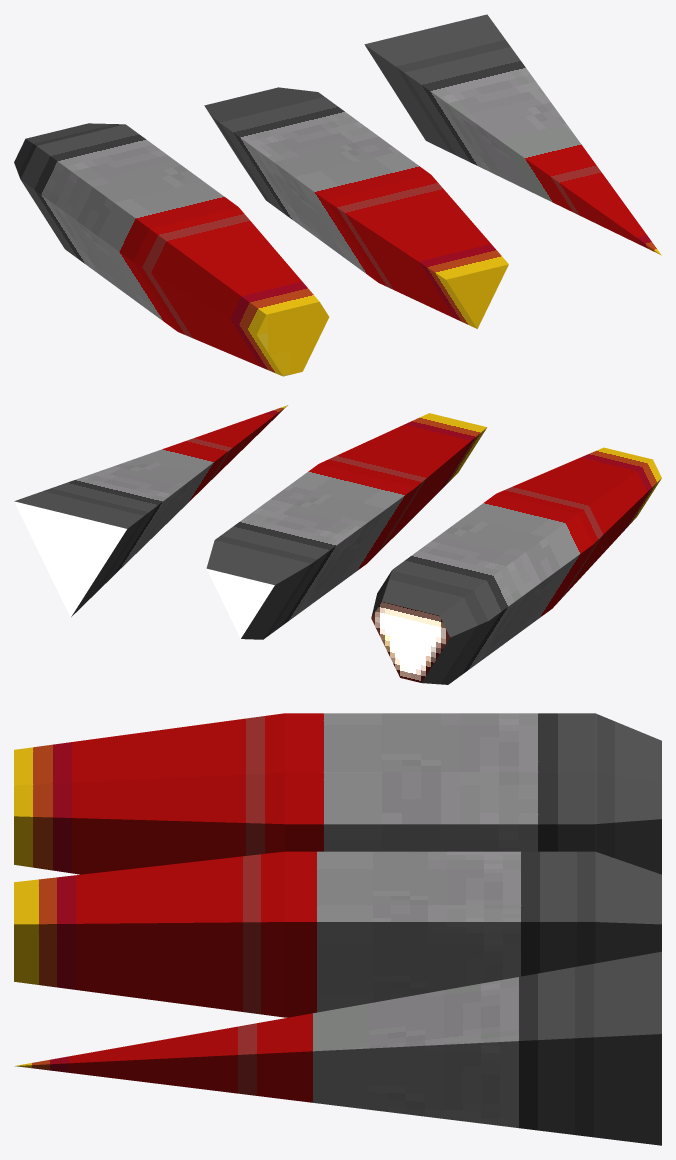
The model's file is mediumenergycannon.dae.
3 renders of one model, top to bottom at view 1: azimuth 30°, elevation 25°; view 2: azimuth 150°, elevation 25°; view 3: azimuth 270°, elevation 25°, orthographic. The views are drawn at different scales.
Visible parts, largest first — view 1: MULT[Root_mesh]_LOD[0], MULT[Root_mesh]_LOD[1], MULT[Root_mesh]_LOD[2]; view 2: MULT[Root_mesh]_LOD[0], MULT[Root_mesh]_LOD[1], MULT[Root_mesh]_LOD[2]; view 3: MULT[Root_mesh]_LOD[0], MULT[Root_mesh]_LOD[1], MULT[Root_mesh]_LOD[2].
Part boxes in pixels (x1,y1,x2,y2): MULT[Root_mesh]_LOD[0]: (14, 123, 329, 376); MULT[Root_mesh]_LOD[1]: (204, 87, 508, 328); MULT[Root_mesh]_LOD[2]: (364, 14, 661, 255); MULT[Root_mesh]_LOD[0]: (371, 447, 661, 684); MULT[Root_mesh]_LOD[1]: (206, 413, 486, 639); MULT[Root_mesh]_LOD[2]: (14, 405, 287, 617); MULT[Root_mesh]_LOD[0]: (14, 713, 661, 874); MULT[Root_mesh]_LOD[1]: (14, 851, 661, 1017); MULT[Root_mesh]_LOD[2]: (15, 951, 661, 1145).
Bounding box in the file's own units: 0.0456 × 0.0101 × 0.038.
1 material, 1 textured.
